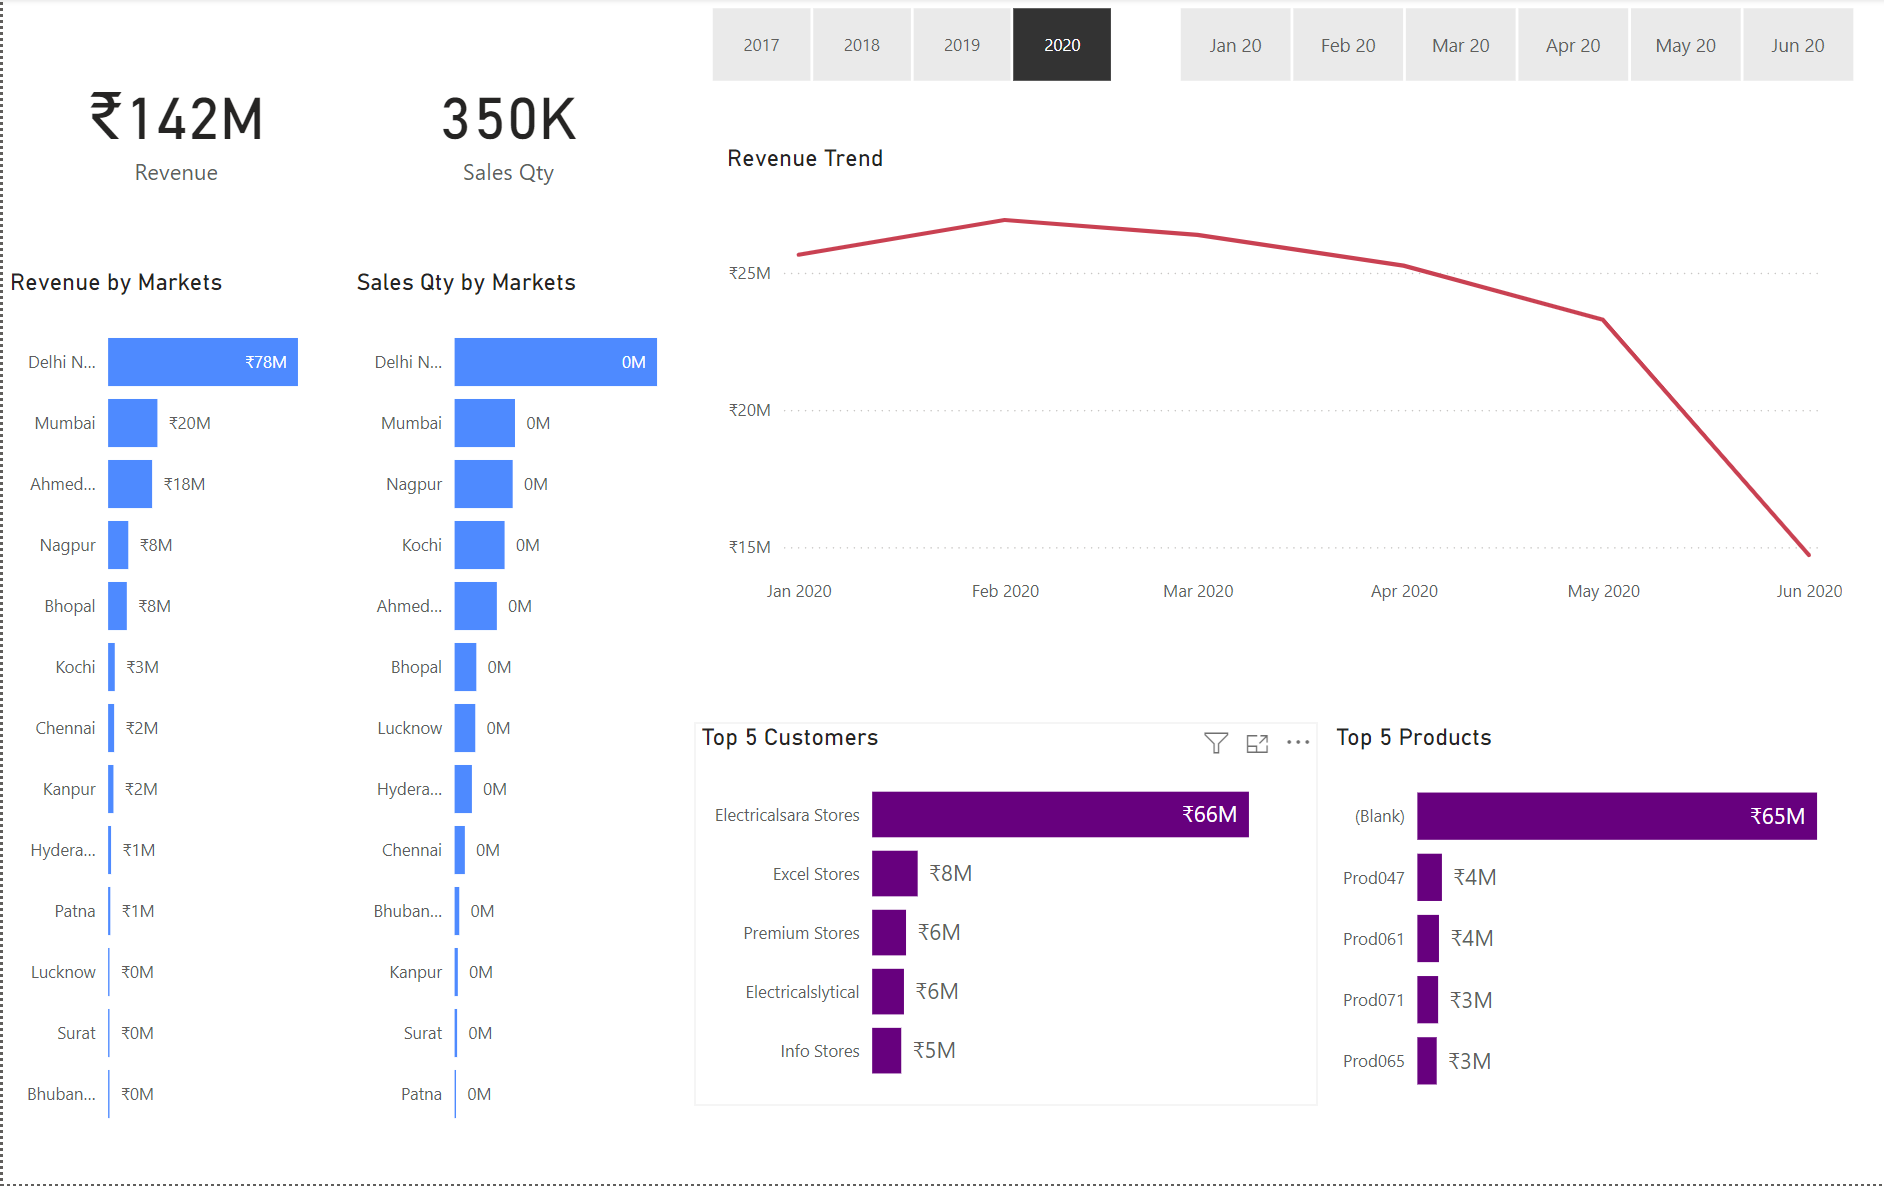

What the dashboard file says about the page in this screenshot:
{"tool":"powerbi","page":{"name":"Key Insights","canvas":[1350,850],"ordinal":0},"visuals":[{"type":"card","fields":{"Values":["BaseMeasures (2).Revenue"]},"box":[0,0,247.9,184.6],"z":0},{"type":"card","fields":{"Values":["BaseMeasures (2).Sales Qty"]},"box":[248.1,0,227.3,184.5],"z":1000},{"type":"barChart","title":"Revenue by Markets","fields":{"Y":["BaseMeasures (2).Revenue"],"Category":["sales markets.markets_name"]},"box":[0,193.1,247.9,631.9],"z":2000},{"type":"barChart","title":"Sales Qty by Markets","fields":{"Y":["BaseMeasures (2).Sales Qty"],"Category":["sales markets.markets_name"]},"box":[247.9,193.1,247.9,631.9],"z":3000},{"type":"slicer","fields":{"Values":["sales date.year"]},"box":[483.2,0,335.5,66.5],"z":4000},{"type":"slicer","fields":{"Values":["sales date.cy_date"]},"box":[818.6,0,531.7,66.5],"z":5000},{"type":"barChart","title":"Top 5 Customers","fields":{"Y":["BaseMeasures (2).Revenue"],"Category":["sales customers.custmer_name"]},"box":[495.8,519,446.2,274.3],"z":6000},{"type":"barChart","title":"Top 5 Products","fields":{"Y":["BaseMeasures (2).Revenue"],"Category":["sales products.product_code"]},"box":[950.7,519.2,399.5,282.8],"z":7000},{"type":"lineChart","title":"Revenue Trend","fields":{"Y":["BaseMeasures (2).Revenue"],"Category":["sales date.cy_date"]},"box":[513.8,104.4,809.1,338.6],"z":8000}]}

Visuals, with their boxes in screenshot pixels (x1, y1, x2, y2), scaled from the page's 1350x850 canvas onto the 1884x1186 screenshot:
card - BaseMeasures (2).Revenue: [0, 0, 346, 258]
card - BaseMeasures (2).Sales Qty: [346, 0, 663, 257]
"Revenue by Markets" barChart: [0, 269, 346, 1151]
"Sales Qty by Markets" barChart: [346, 269, 692, 1151]
slicer - sales date.year: [674, 0, 1143, 93]
slicer - sales date.cy_date: [1142, 0, 1883, 93]
"Top 5 Customers" barChart: [692, 724, 1315, 1107]
"Top 5 Products" barChart: [1327, 724, 1883, 1119]
"Revenue Trend" lineChart: [717, 146, 1846, 618]
